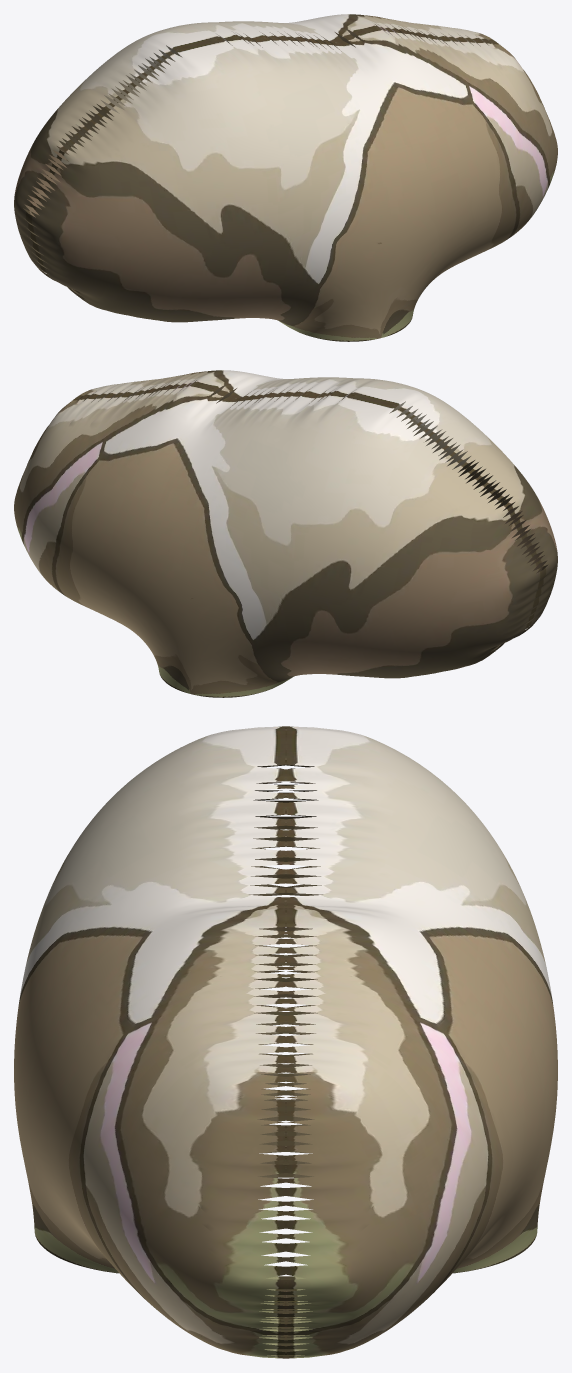
The model's file is pale_boulder.glb.
The picture shows the model from 3 angles, top to bottom: view 1: azimuth 30°, elevation 25°; view 2: azimuth 150°, elevation 25°; view 3: azimuth 270°, elevation 25°; orthographic projection. The views are drawn at different scales.
Visible parts, largest first — view 1: pale_boulder; view 2: pale_boulder; view 3: pale_boulder.
Part boxes in pixels (x1=…): pale_boulder: x1=14, y1=14, x2=557, y2=341; pale_boulder: x1=14, y1=370, x2=557, y2=697; pale_boulder: x1=14, y1=726, x2=557, y2=1358.
Size of the model in its own units: 0.9889 by 0.4762 by 0.5768.
1 material, 1 textured.
